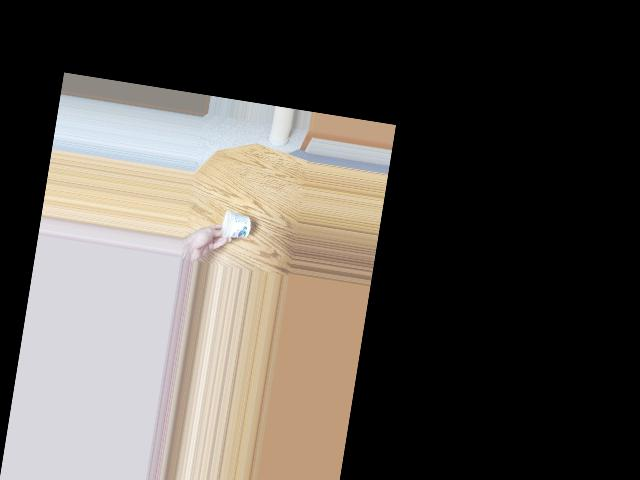cotage: (218, 203, 256, 240)
